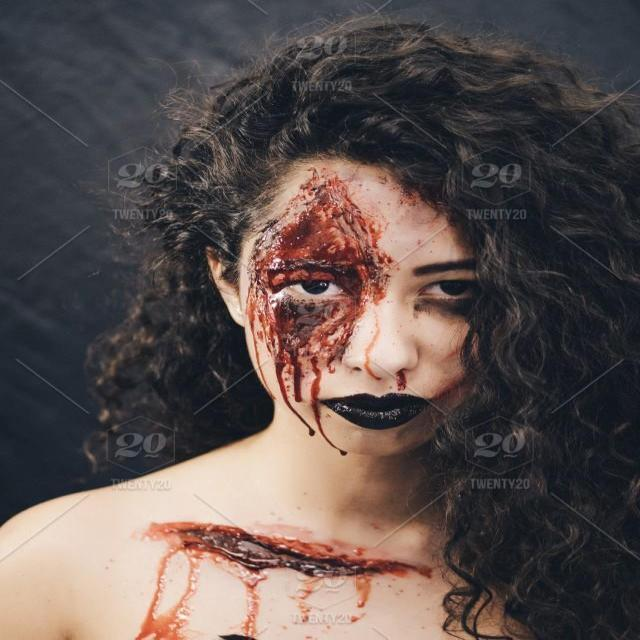flood: (164, 505, 403, 602), (256, 200, 364, 378)
